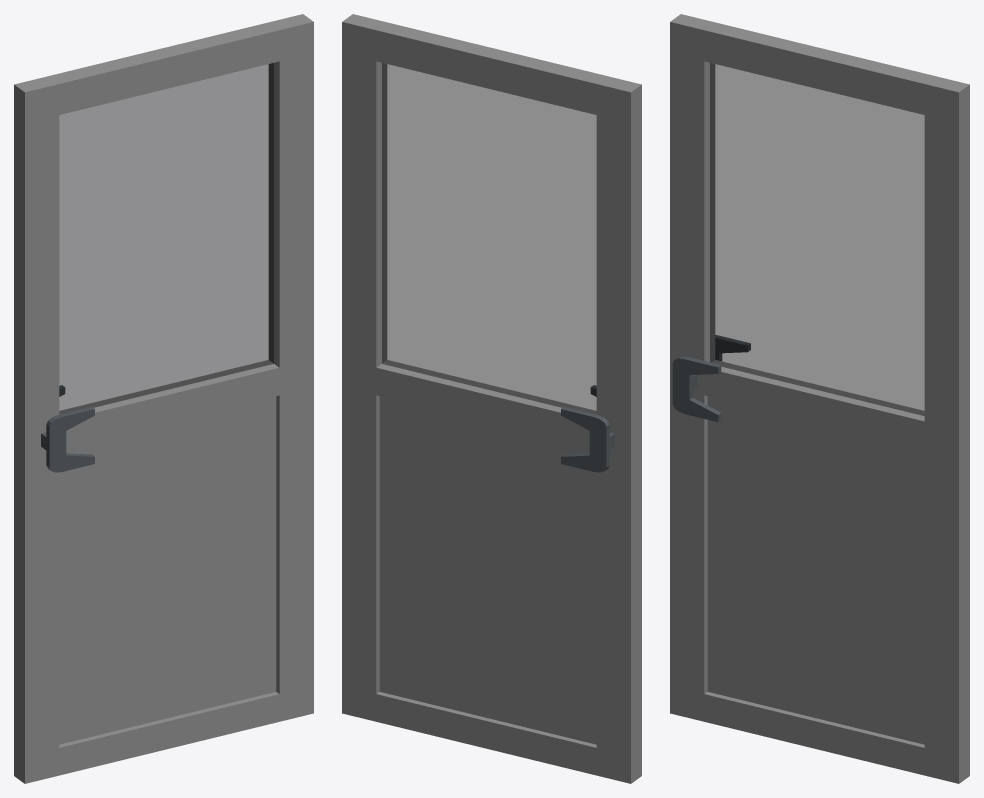
The model's file is DoorsV3.glb.
3 renders of one model, left to right at view 1: azimuth 30°, elevation 25°; view 2: azimuth 150°, elevation 25°; view 3: azimuth 330°, elevation 25°, orthographic.
Visible parts, largest first — view 1: FrontDoorR.004; view 2: FrontDoorR.004; view 3: FrontDoorR.004.
Boxes of the visible parts, bbox=[...] form: FrontDoorR.004: bbox=[14, 14, 313, 783]; FrontDoorR.004: bbox=[342, 14, 641, 783]; FrontDoorR.004: bbox=[670, 14, 969, 783].
Bounding box in the file's own units: 0.937 × 2.14 × 0.1846.
3 materials, 1 textured.
